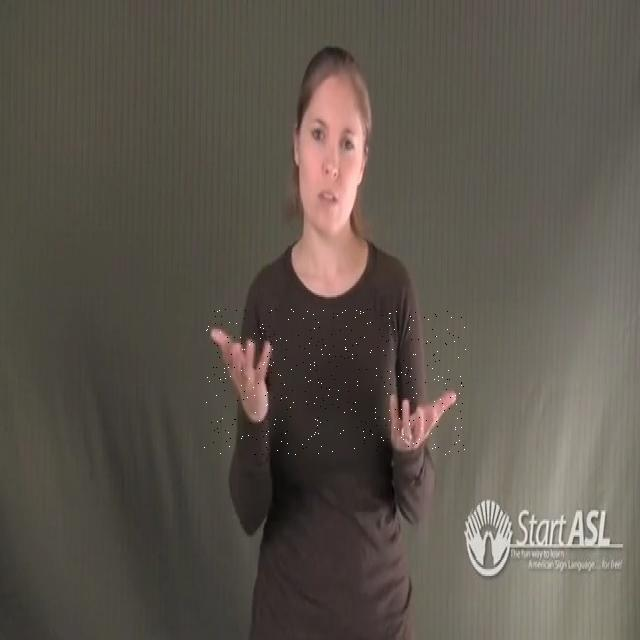what: (204, 309, 466, 455)
